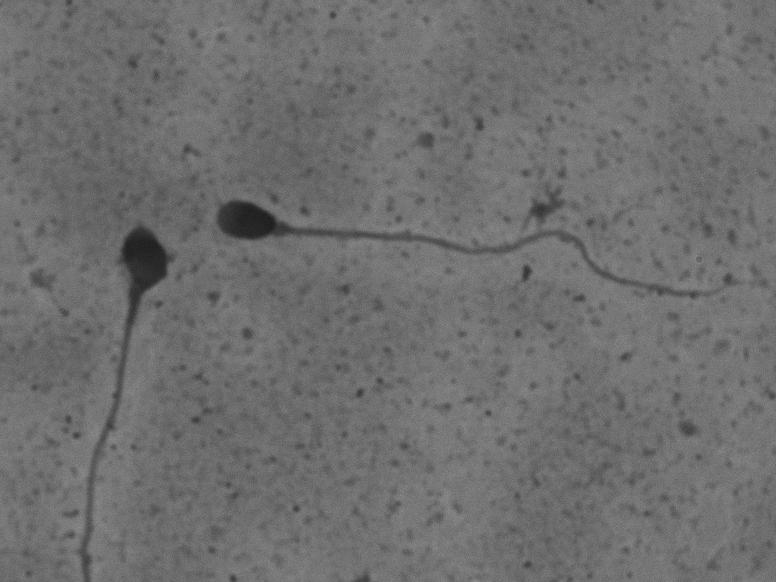Abnormal: (61, 209, 184, 577)
Normal: (203, 183, 747, 311)
